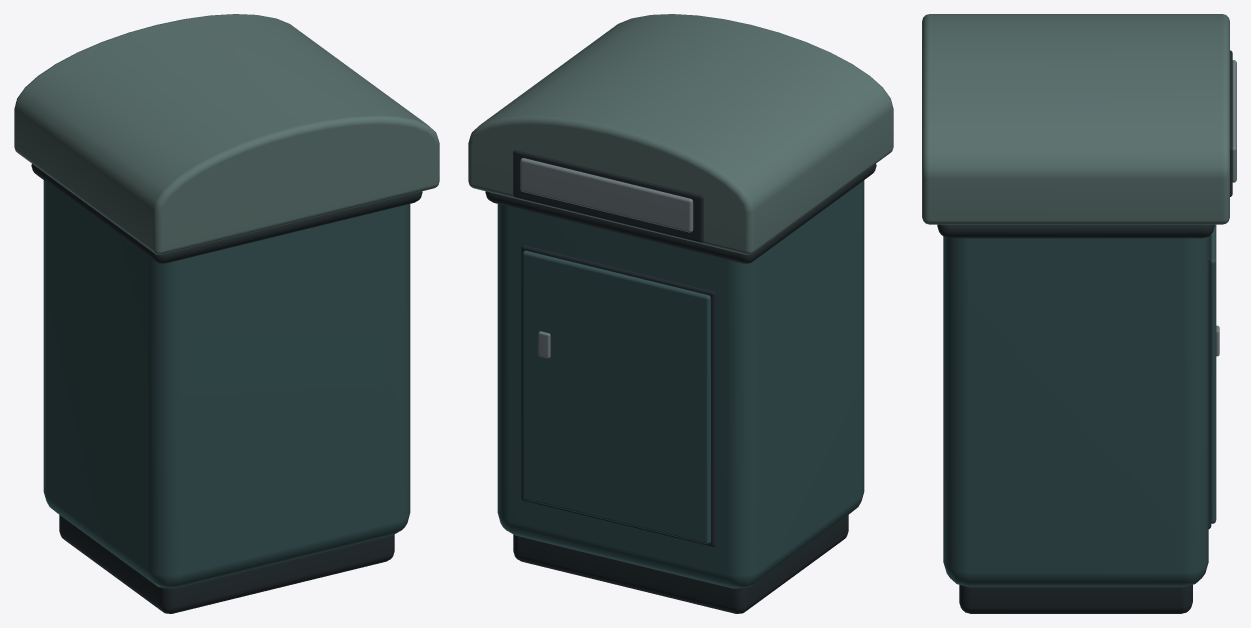
File: city_waste_01.glb
3 renders of one model, left to right at view 1: azimuth 30°, elevation 25°; view 2: azimuth 150°, elevation 25°; view 3: azimuth 270°, elevation 25°, orthographic. The views are drawn at different scales.
Parts seen in each view (by area): view 1: CityWaste01_Mesh; view 2: CityWaste01_Mesh; view 3: CityWaste01_Mesh.
Part boxes in pixels (<box>): CityWaste01_Mesh: <box>14,14,439,613</box>; CityWaste01_Mesh: <box>468,14,893,613</box>; CityWaste01_Mesh: <box>922,14,1236,613</box>.
Size of the model in its own units: 0.66 by 1.05 by 0.593.
